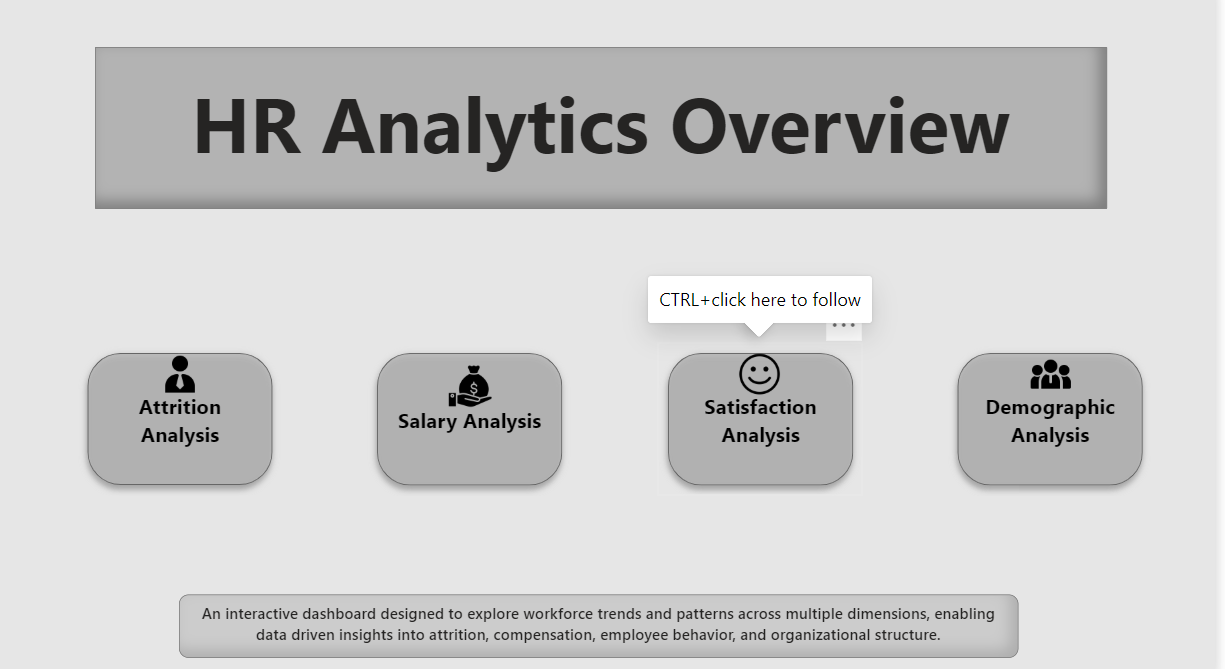

The page's visual inventory and layout, read from the dashboard file:
{"tool":"powerbi","page":{"name":"Home","canvas":[1280,720],"ordinal":0},"visuals":[{"type":"actionButton","box":[93.2,371.1,214.7,159.5],"z":0},{"type":"actionButton","box":[395.4,371.1,215,160],"z":1000},{"type":"actionButton","box":[698,371.1,215,160],"z":2000},{"type":"actionButton","box":[1000.5,371.1,215,160],"z":3000},{"type":"textbox","box":[112.1,63.2,1054.8,168.9],"z":4000},{"type":"textbox","box":[200.5,633.2,874.7,66.3],"z":5000},{"type":"image","box":[168.9,382.1,64.7,44.2],"z":6000},{"type":"image","box":[480,393.2,47.4,44.2],"z":7000},{"type":"image","box":[778.4,382.1,53.7,44.2],"z":8000},{"type":"image","box":[1084.8,382.1,47.4,44.2],"z":9000},{"type":"actionButton","box":[93.2,371.1,214.7,159.5],"z":10000},{"type":"actionButton","box":[394.7,371.1,214.7,159.5],"z":11000},{"type":"actionButton","box":[697.9,371.1,214.7,159.5],"z":12000},{"type":"actionButton","box":[1001.1,371.1,214.7,159.5],"z":13000}]}

Visuals, with their boxes in screenshot pixels (x1, y1, x2, y2), scaled from the page's 1280x720 canvas onto the 1225x669 screenshot:
actionButton: <box>89,345,295,493</box>
actionButton: <box>378,345,584,493</box>
actionButton: <box>668,345,874,493</box>
actionButton: <box>958,345,1163,493</box>
textbox: <box>107,59,1117,216</box>
textbox: <box>192,588,1029,650</box>
image: <box>162,355,224,396</box>
image: <box>459,365,505,406</box>
image: <box>745,355,796,396</box>
image: <box>1038,355,1084,396</box>
actionButton: <box>89,345,295,493</box>
actionButton: <box>378,345,583,493</box>
actionButton: <box>668,345,873,493</box>
actionButton: <box>958,345,1164,493</box>
